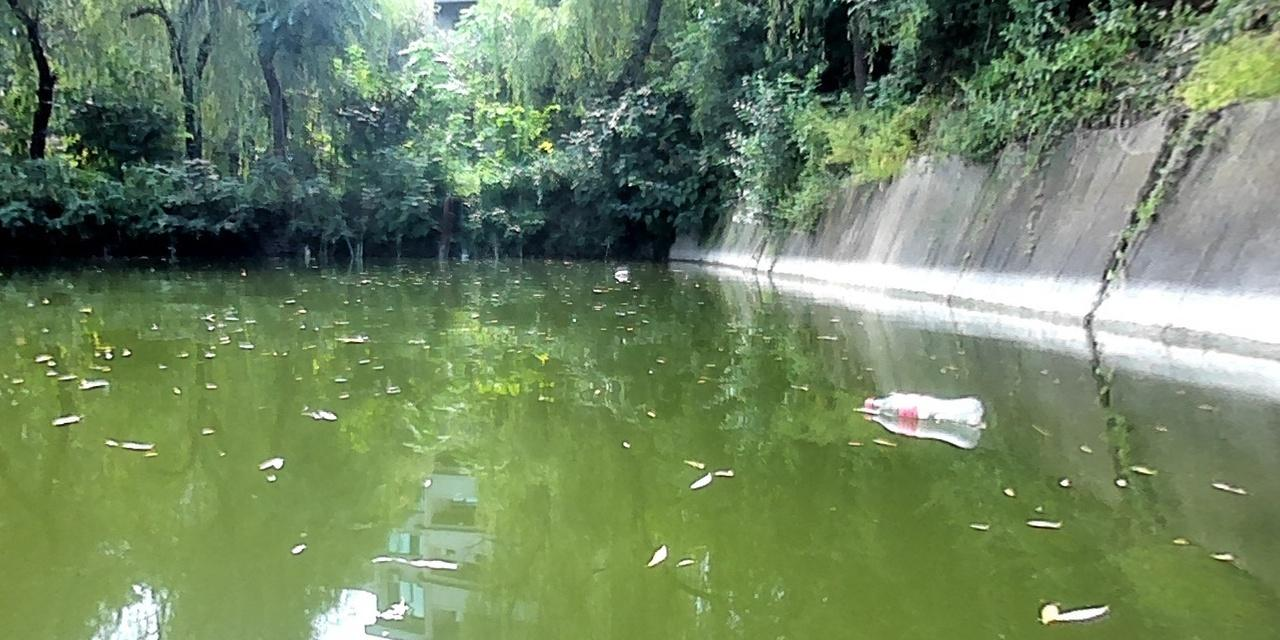bottle: (860, 387, 984, 430), (609, 266, 630, 278)
